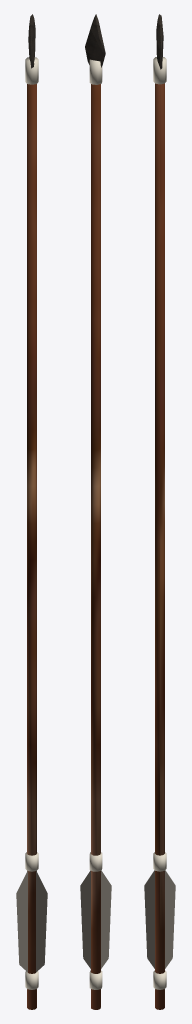
The model's file is SM_Item_arrow.gltf.
The picture shows the model from 3 angles, left to right: view 1: azimuth 90°, elevation 25°; view 2: azimuth 150°, elevation 25°; view 3: azimuth 270°, elevation 25°; orthographic projection.
Parts seen in each view (by area): view 1: SM_Item_arrow; view 2: SM_Item_arrow; view 3: SM_Item_arrow.
Boxes of the visible parts, x1=… form: SM_Item_arrow: x1=16, y1=14, x2=47, y2=1009; SM_Item_arrow: x1=80, y1=14, x2=111, y2=1009; SM_Item_arrow: x1=144, y1=14, x2=175, y2=1009.
Bounding box in the file's own units: 0.0266 × 0.966 × 0.0277.
4 materials, 2 textured.
